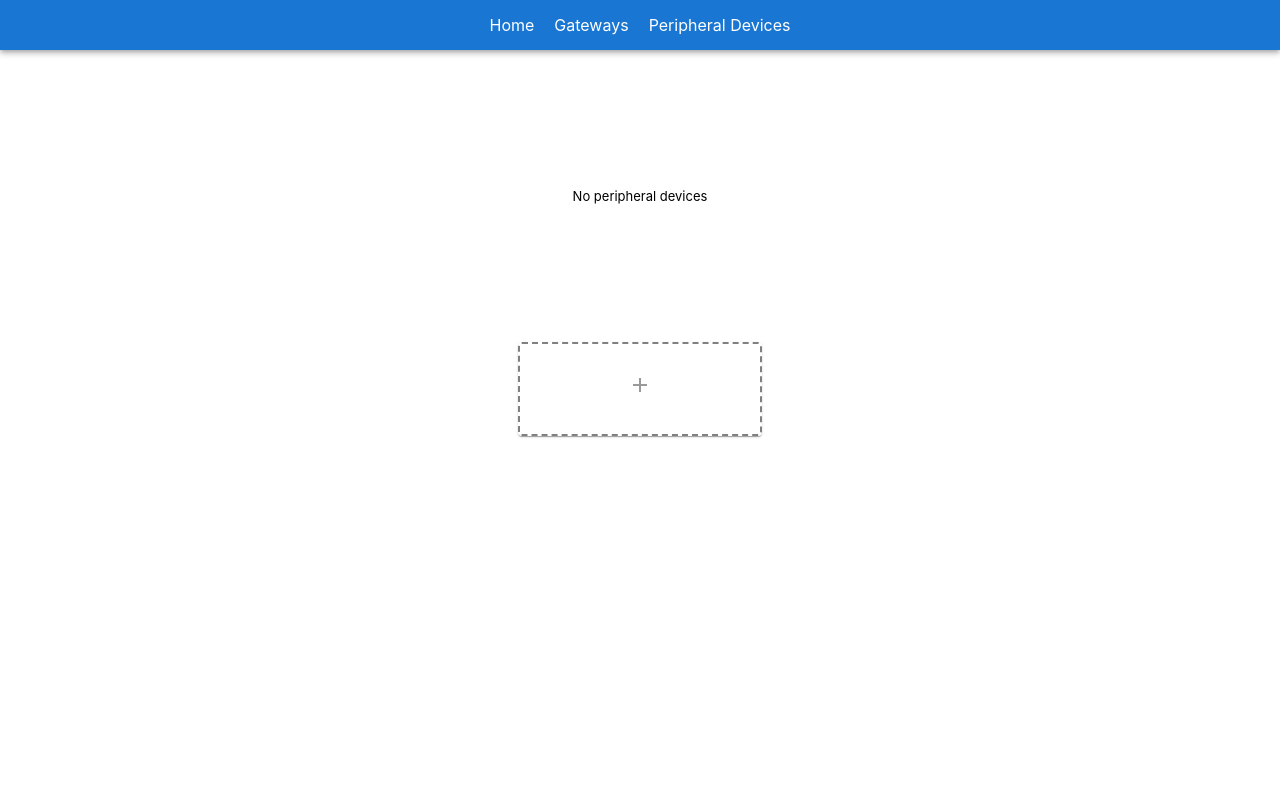
it: peripheral devices tests › create peripheral device › opens create device dialog
The width and height of the screenshot is (1280, 800).
Click the element with test id "peripheral_device_add_card": (640, 385) [628,373,652,397]
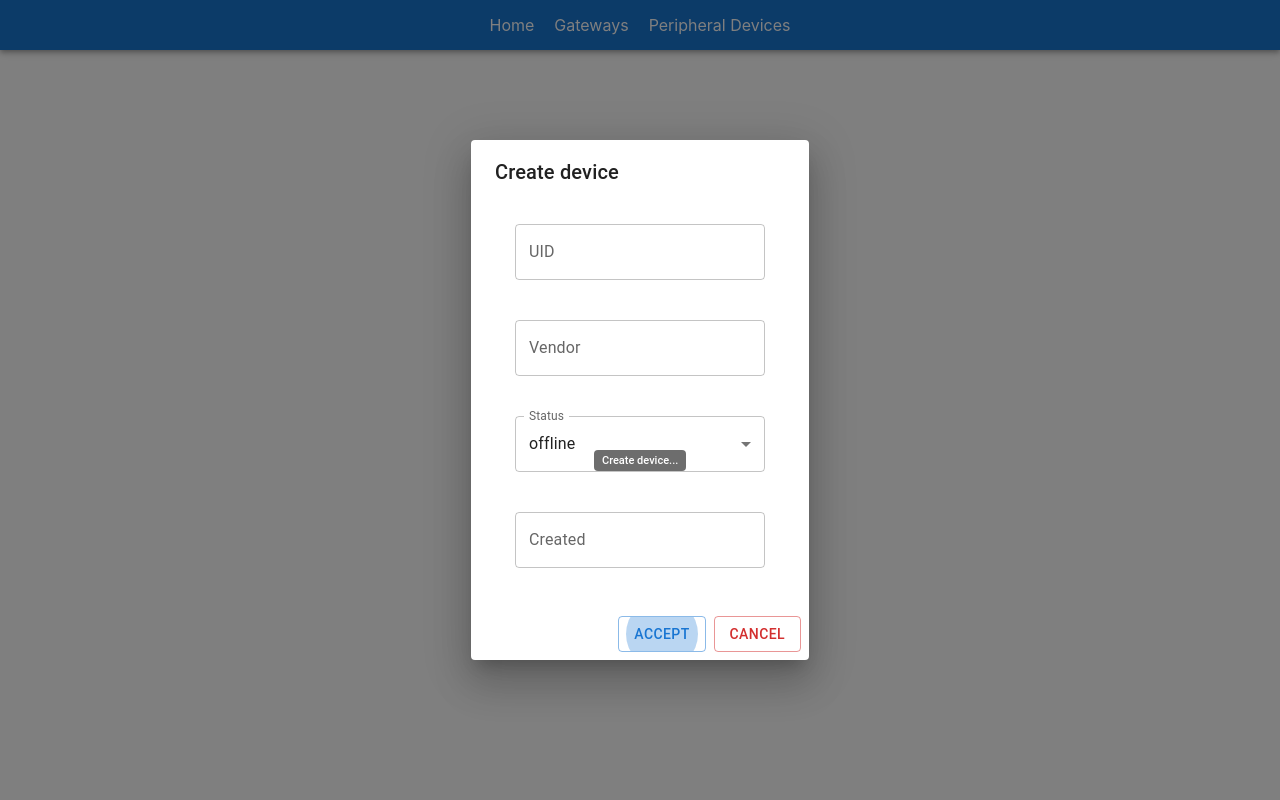
Check: the heading "Create device" is shown, box [495,160,619,184]
